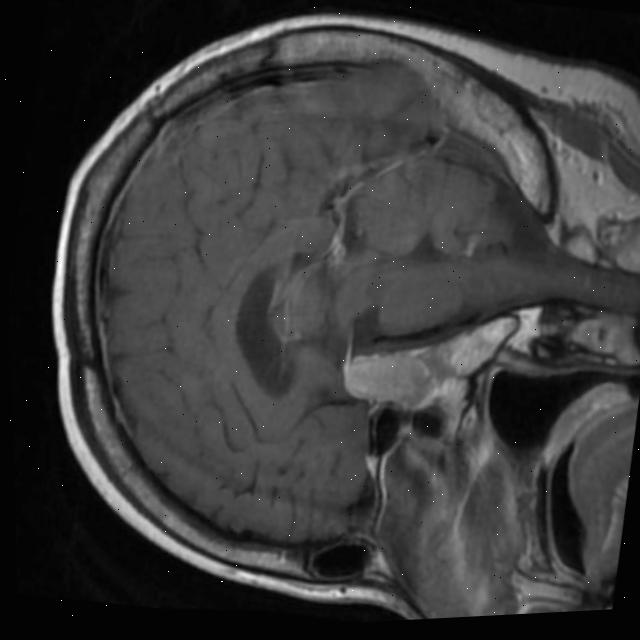Pituitary: (336, 336, 444, 417)
